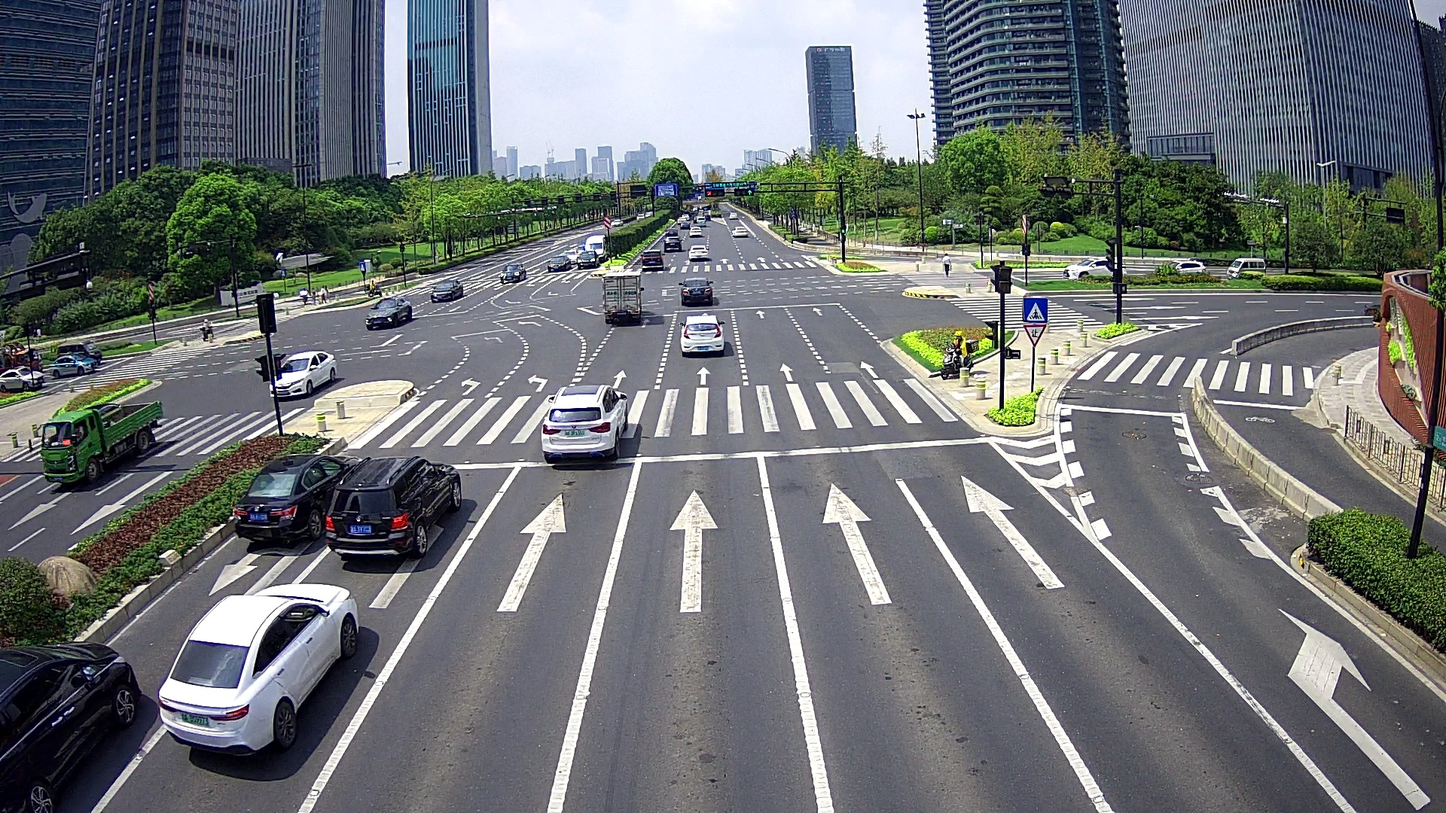person: (952, 327, 970, 370)
vehicle: (154, 580, 362, 757), (2, 634, 141, 811), (322, 451, 465, 563), (229, 449, 362, 551), (35, 397, 164, 489), (536, 378, 633, 465), (262, 347, 337, 399), (594, 265, 648, 326), (677, 309, 729, 359), (362, 291, 416, 331), (938, 338, 980, 379), (677, 276, 718, 308), (428, 276, 465, 303)
